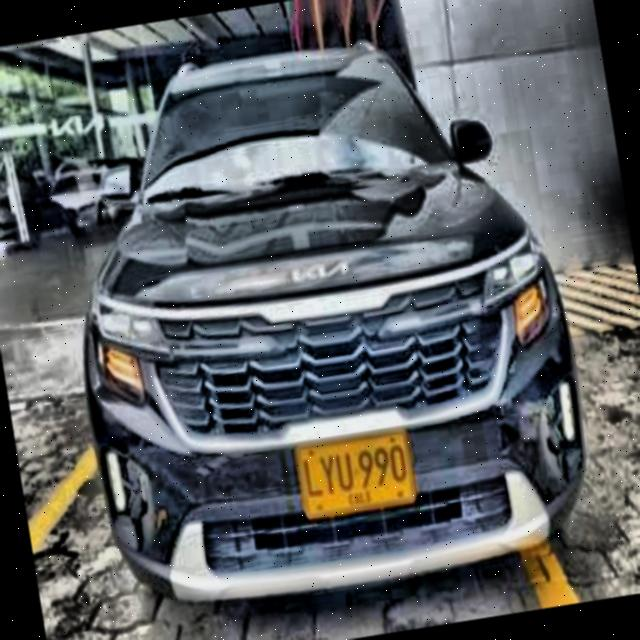0: (388, 442, 409, 484)
9: (354, 448, 378, 490), (371, 446, 393, 488)
L: (301, 456, 325, 499)
U: (334, 450, 356, 494)
Y: (318, 454, 340, 498)
